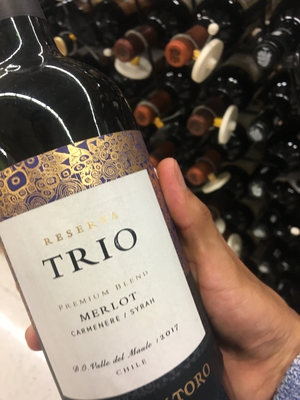trio merlot: (2, 28, 227, 400)
